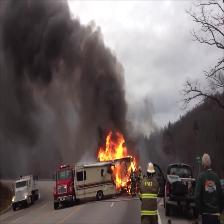fire: (101, 135, 125, 164), (110, 164, 137, 182)
smoke: (10, 0, 71, 139), (74, 35, 100, 155)
